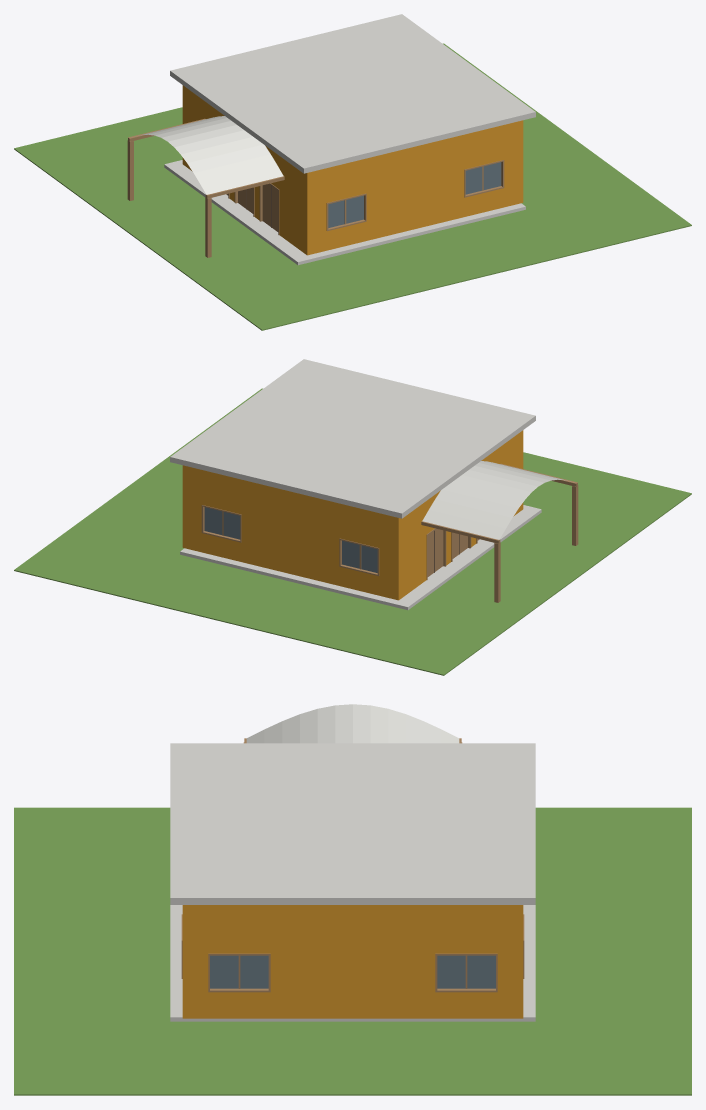
File: lab_ecologia.glb
The picture shows the model from 3 angles, top to bottom: view 1: azimuth 30°, elevation 25°; view 2: azimuth 150°, elevation 25°; view 3: azimuth 270°, elevation 25°; orthographic projection. The views are drawn at different scales.
Parts seen in each view (by area): view 1: Laboratorio - Ecología y Conservación de Flora y Fauna Silve; view 2: Laboratorio - Ecología y Conservación de Flora y Fauna Silve; view 3: Laboratorio - Ecología y Conservación de Flora y Fauna Silve.
Part boxes in pixels (box(x1,y1,x2,y2)): Laboratorio - Ecología y Conservación de Flora y Fauna Silve: box(14, 14, 691, 330); Laboratorio - Ecología y Conservación de Flora y Fauna Silve: box(14, 359, 691, 675); Laboratorio - Ecología y Conservación de Flora y Fauna Silve: box(14, 704, 691, 1095).
Size of the model in its own units: 21.72 by 4.65 by 21.7.
